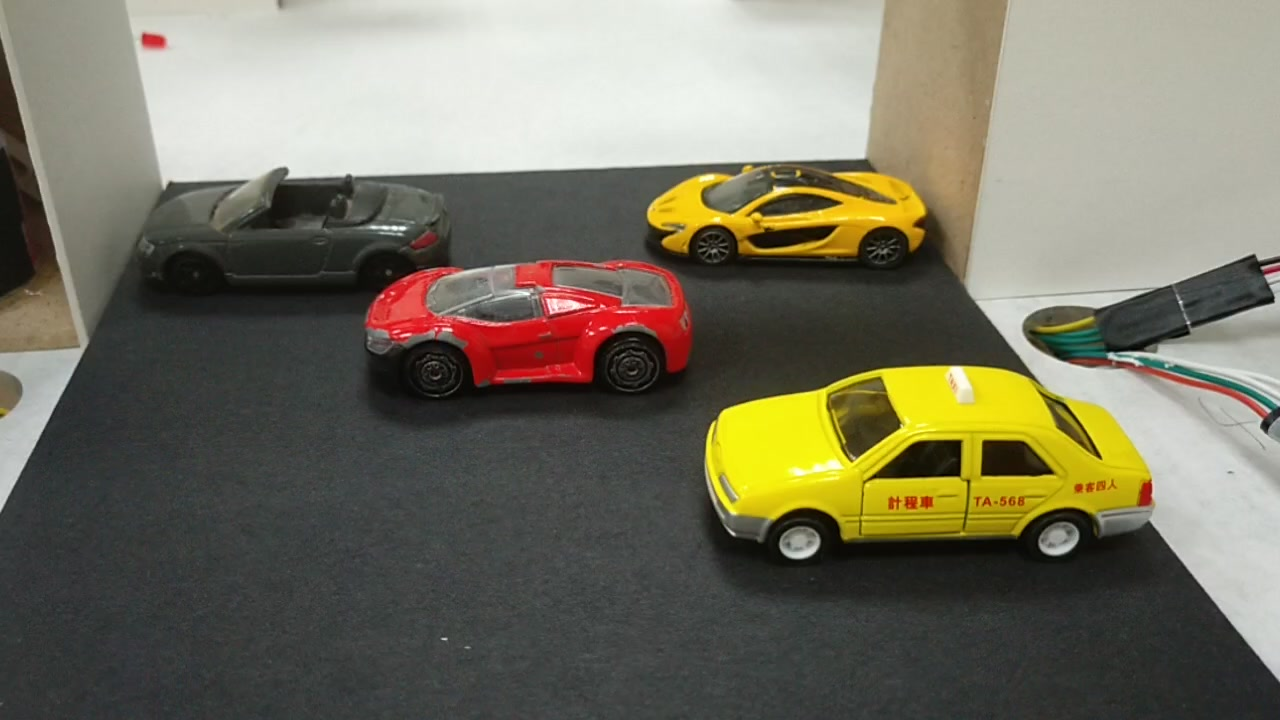car: (708, 362, 1146, 559), (365, 268, 693, 396), (643, 159, 933, 271), (140, 181, 442, 283)
